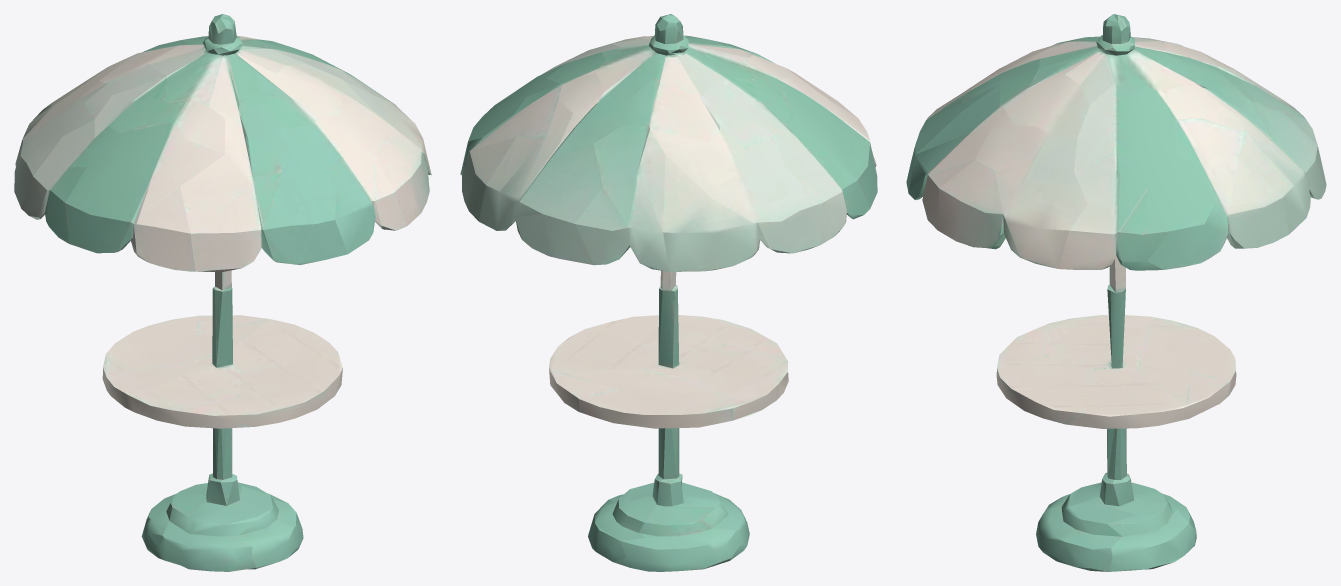
Rendered from deco-parasol-table.glb.
3 views of the same model, side by side, from view 1: azimuth 30°, elevation 25°; view 2: azimuth 150°, elevation 25°; view 3: azimuth 270°, elevation 25° (orthographic).
Parts seen in each view (by area): view 1: deco-parasol-table-fit; view 2: deco-parasol-table-fit; view 3: deco-parasol-table-fit.
Part boxes in pixels (left/top/right/bottom): deco-parasol-table-fit: left=14, top=14, right=431, bottom=571; deco-parasol-table-fit: left=460, top=14, right=877, bottom=571; deco-parasol-table-fit: left=906, top=14, right=1326, bottom=571.
Bounding box in the file's own units: 1.59 × 2.2 × 1.6.
Materials: 1 (1 with a texture image).
